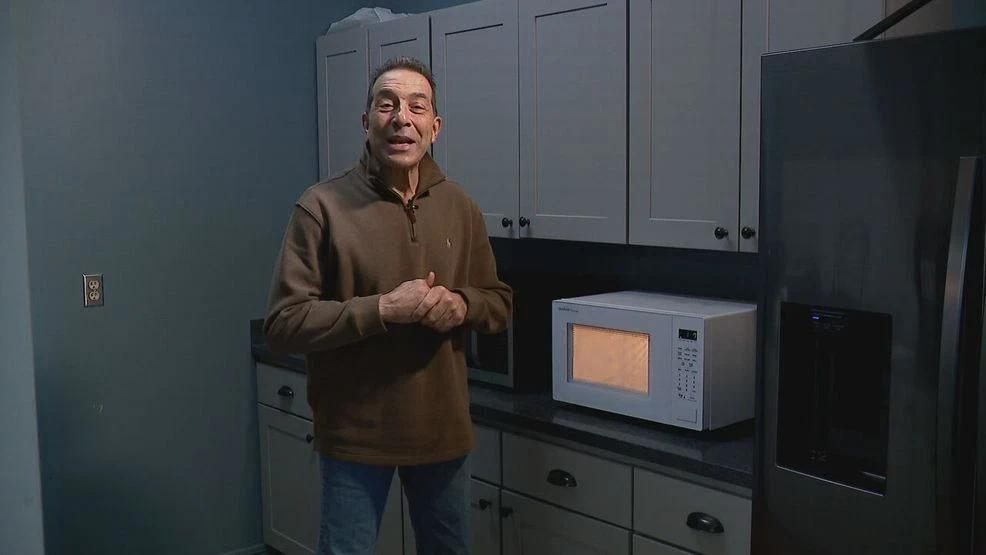controlled_fire: (552, 308, 663, 408)
